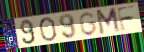9: (58, 13, 77, 40), (19, 19, 37, 46)
F: (116, 5, 136, 33)
G: (78, 12, 98, 37)
M: (95, 6, 122, 36)
O: (38, 16, 58, 43)
